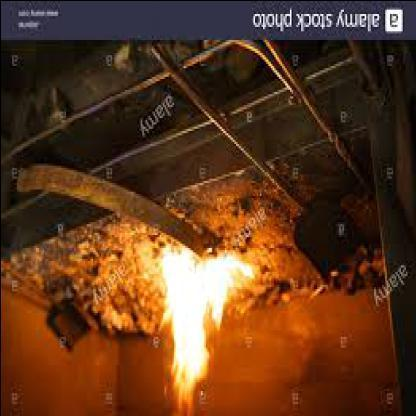Fire: (161, 253, 257, 407)
